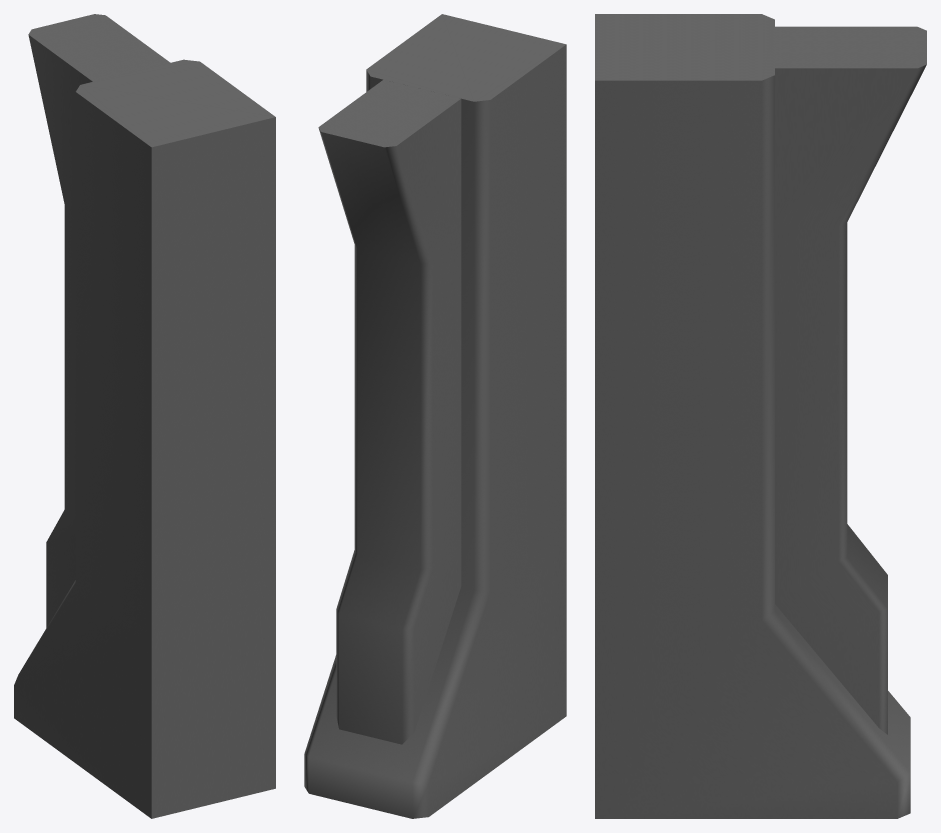
Rendered from Pillar_01.fbx.
3 views of the same model, side by side, from view 1: azimuth 30°, elevation 25°; view 2: azimuth 150°, elevation 25°; view 3: azimuth 270°, elevation 25° (orthographic). The views are drawn at different scales.
Visible parts, largest first — view 1: Corridor_Pillar_01; view 2: Corridor_Pillar_01; view 3: Corridor_Pillar_01.
Part boxes in pixels (left/top/right/bottom): Corridor_Pillar_01: left=14, top=14, right=275, bottom=818; Corridor_Pillar_01: left=304, top=14, right=566, bottom=818; Corridor_Pillar_01: left=595, top=14, right=926, bottom=818.
Bounding box in the file's own units: 100 × 516 × 210.
1 material, 1 textured.
